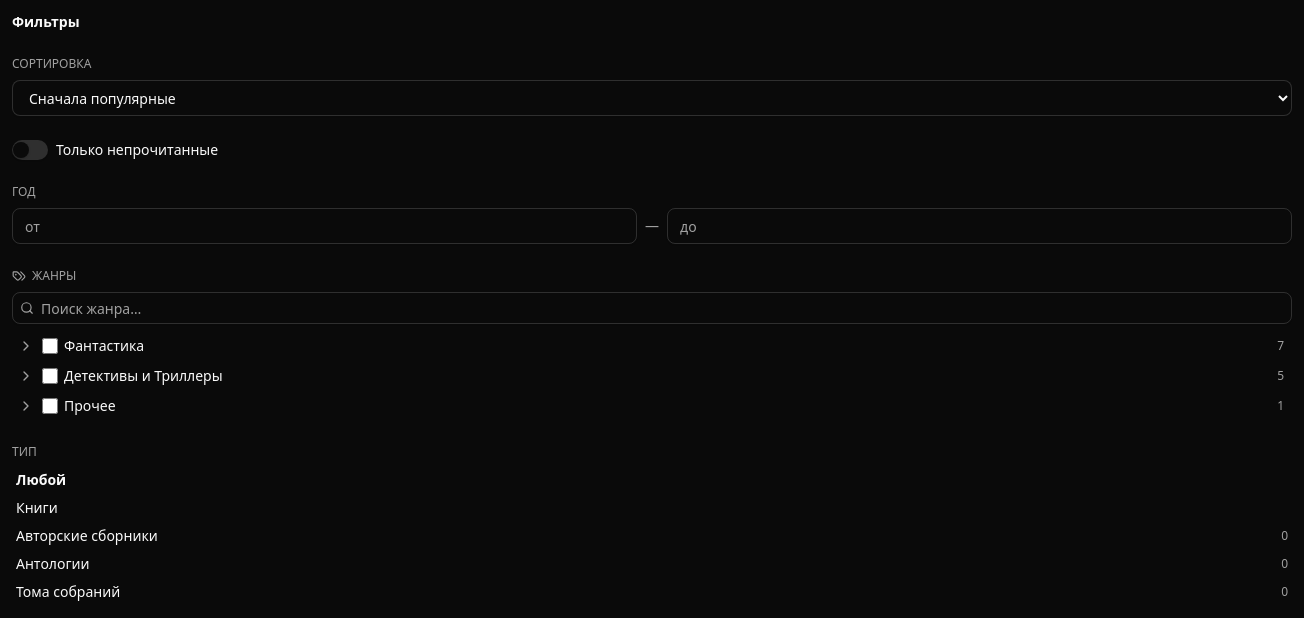
Scenario: FiltersSidebar › контекстный поиск по жанру фильтрует список и раскрывает совпавшее
The width and height of the screenshot is (1304, 618).
Expected: the button "Фантастика" is shown, [64,336,1271,356]
Type "детектив" into the search field labelled "Поиск жанра" at x=652, y=308, box [12,292,1292,324]
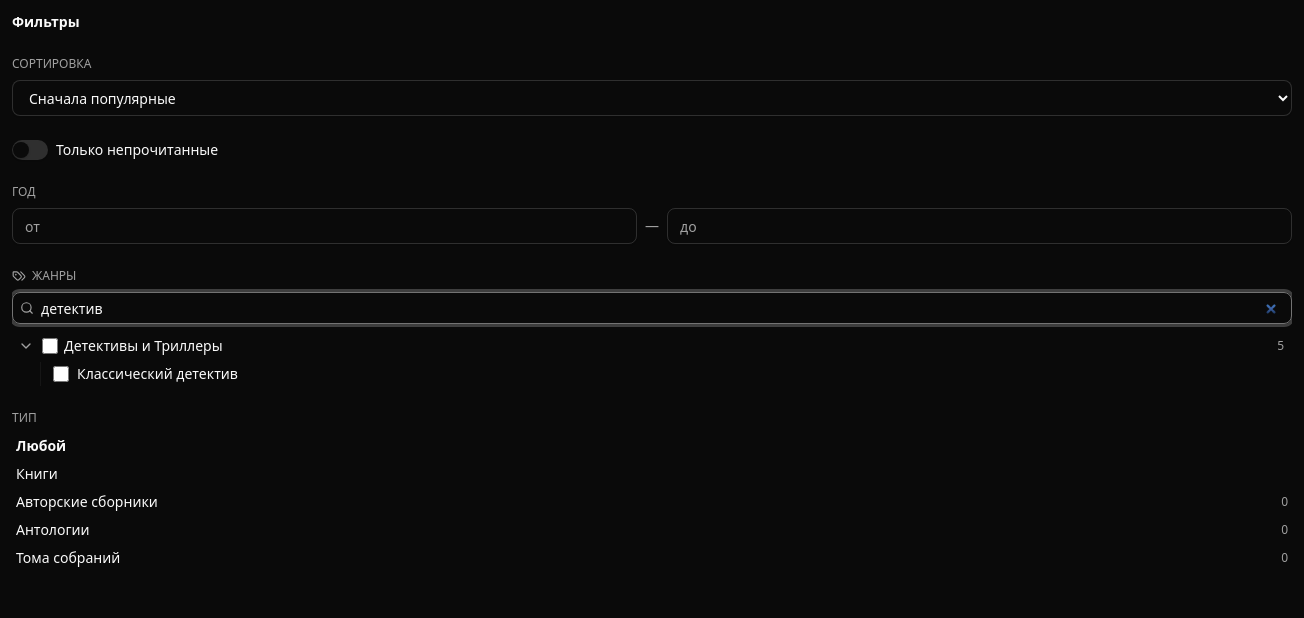
Expected: the text "Классический детектив" is shown, [77,364,238,383]
Expected: the button "Фантастика" is gone
Expected: the button "Прочее" is gone
